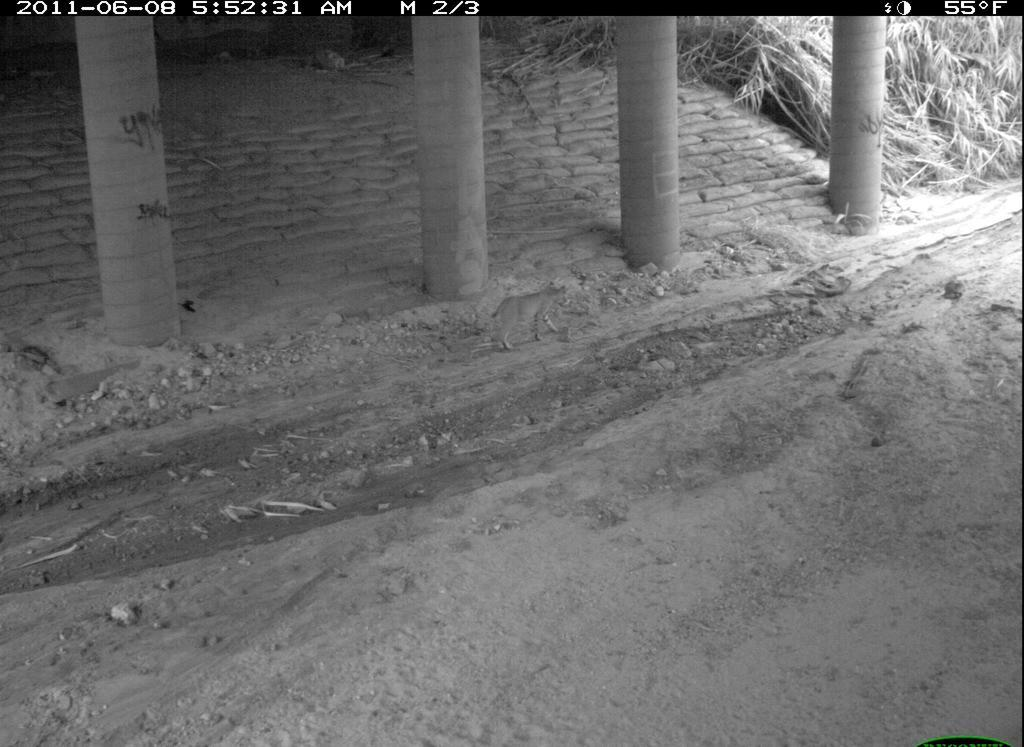bobcat: (968, 554, 1024, 712)
